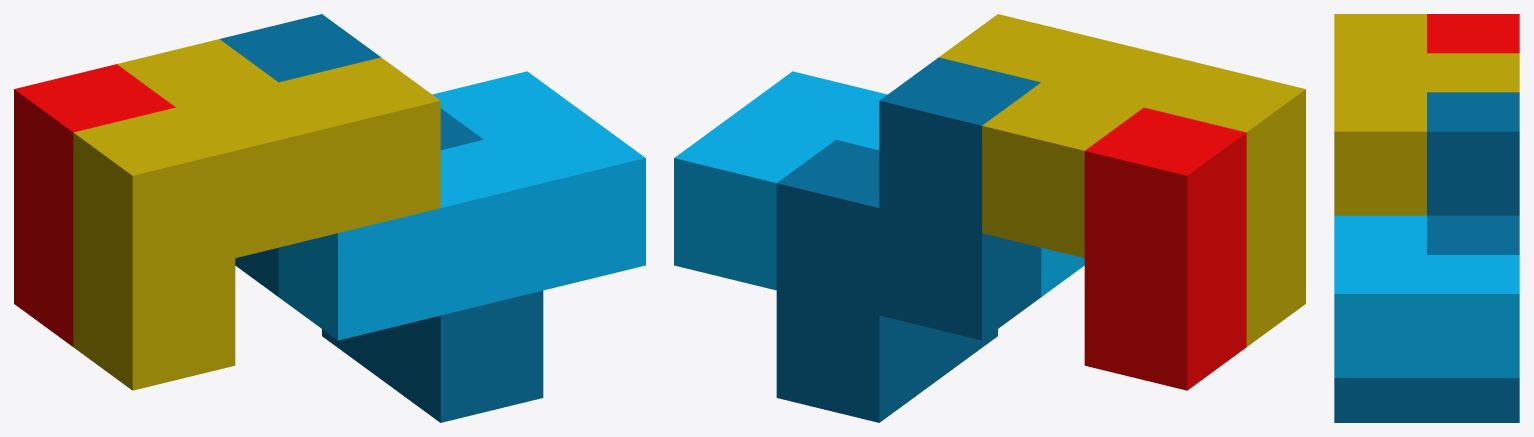
3 renders of one model, left to right at view 1: azimuth 30°, elevation 25°; view 2: azimuth 150°, elevation 25°; view 3: azimuth 270°, elevation 25°, orthographic. The views are drawn at different scales.
Visible parts, largest first — view 1: mergedBlocks(Clone); view 2: mergedBlocks(Clone); view 3: mergedBlocks(Clone).
Part boxes in pixels (x1=…): mergedBlocks(Clone): x1=14, y1=14, x2=645, y2=422; mergedBlocks(Clone): x1=674, y1=14, x2=1305, y2=422; mergedBlocks(Clone): x1=1334, y1=14, x2=1519, y2=422.
Bounding box in the file's own units: 5 × 3 × 2.
4 materials, 4 textured.
